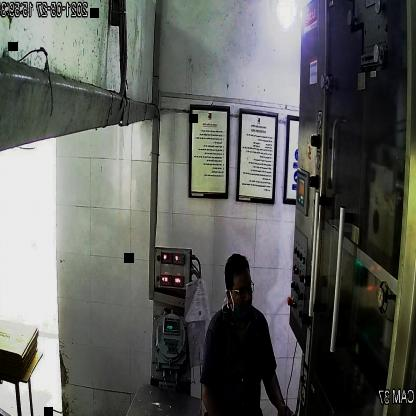goggles: (227, 280, 256, 304)
